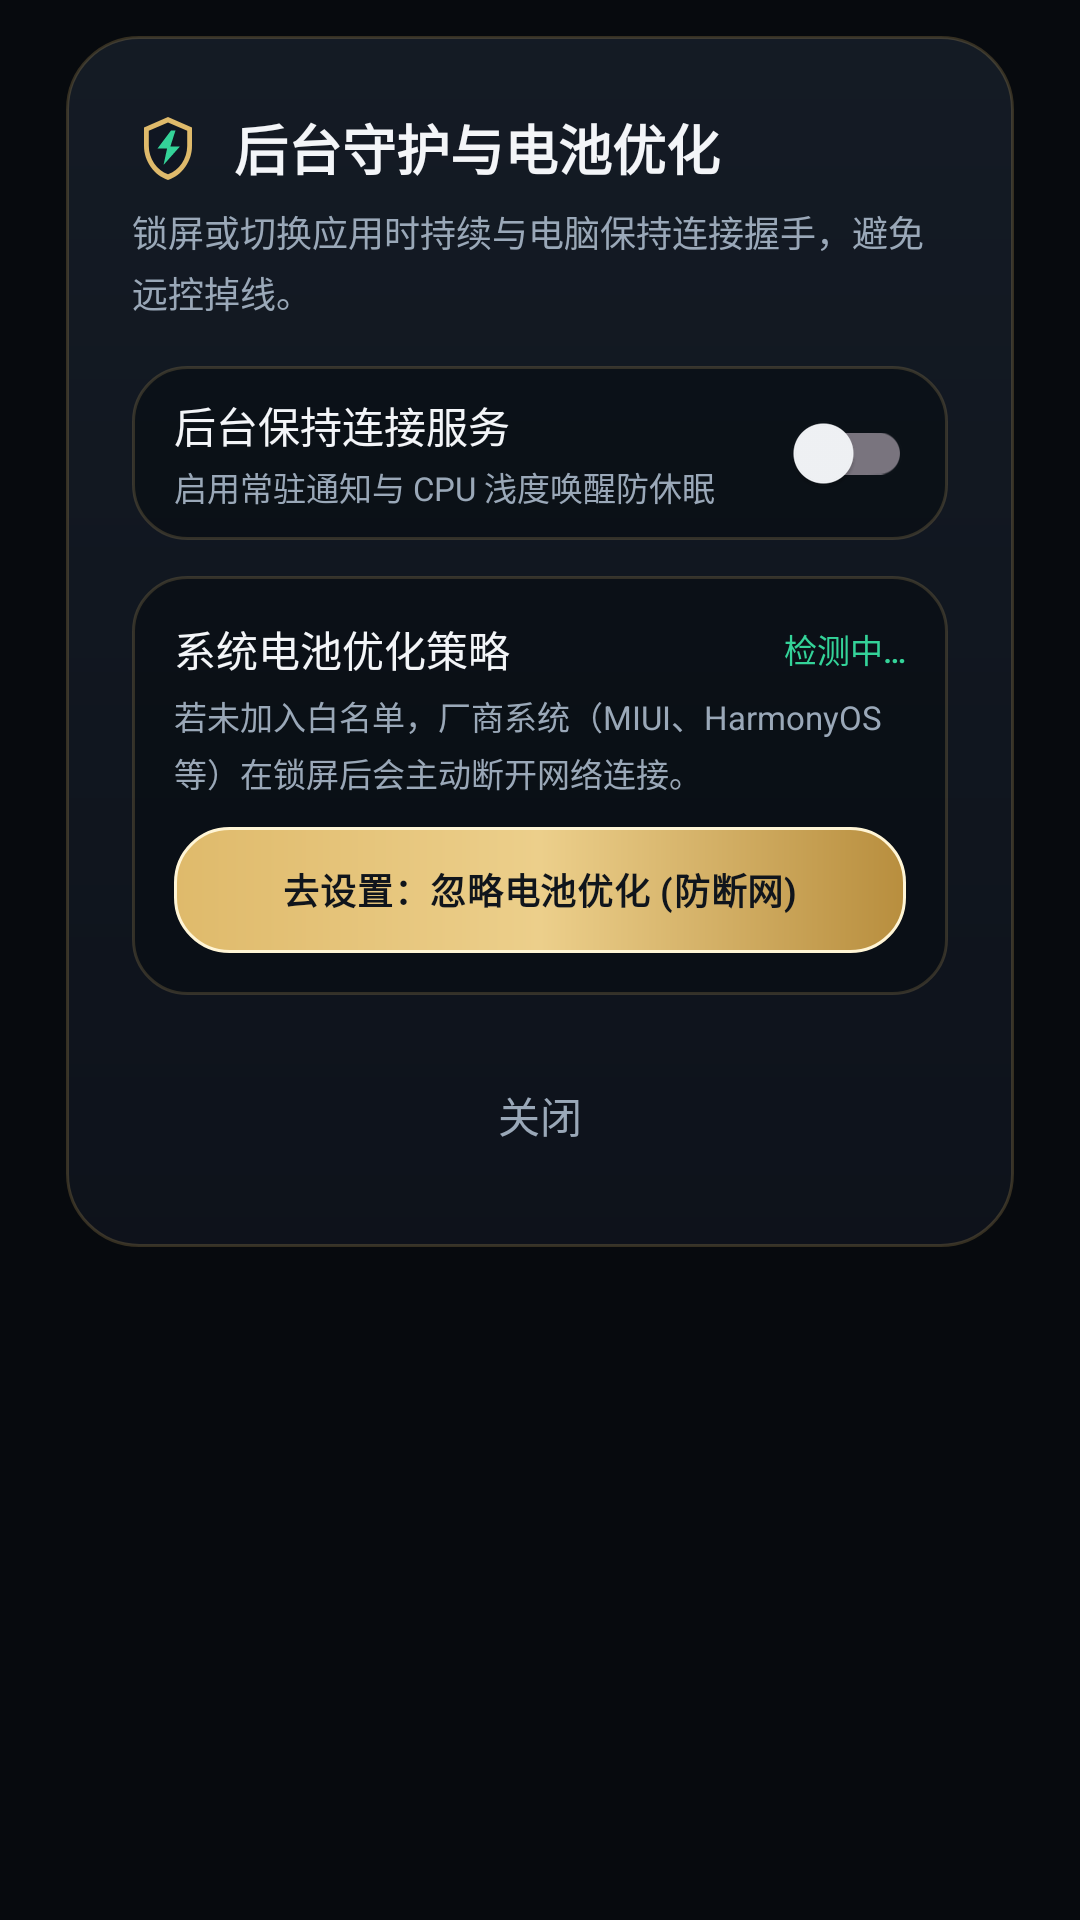

Screen size 1080px x 1920px. Icon name, then its center in pixels as (x=x, y=y):
shield bolt: (x=168, y=148)
